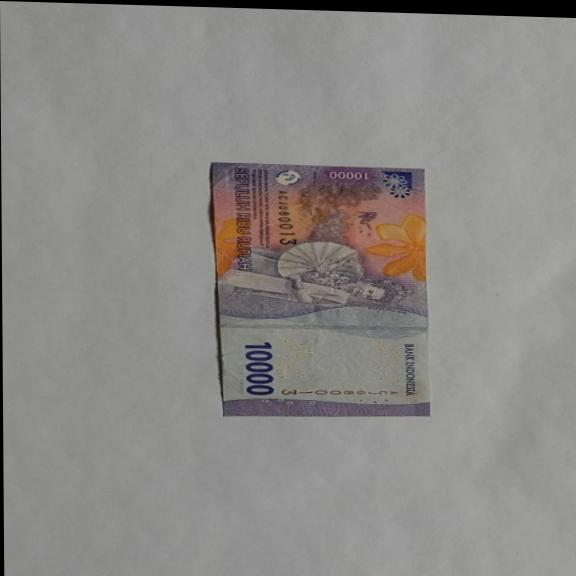Kertas: (207, 159, 431, 422), (241, 339, 275, 396)
